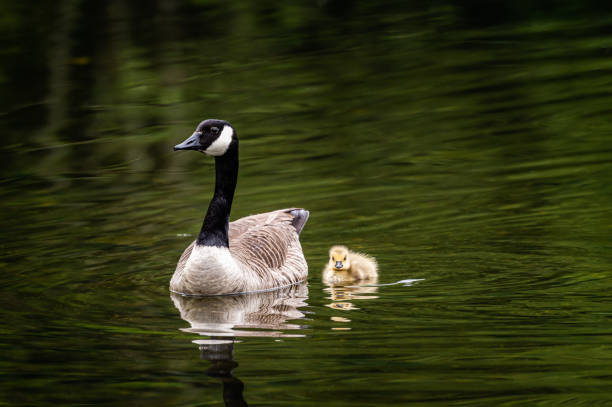goose: (163, 115, 317, 301)
